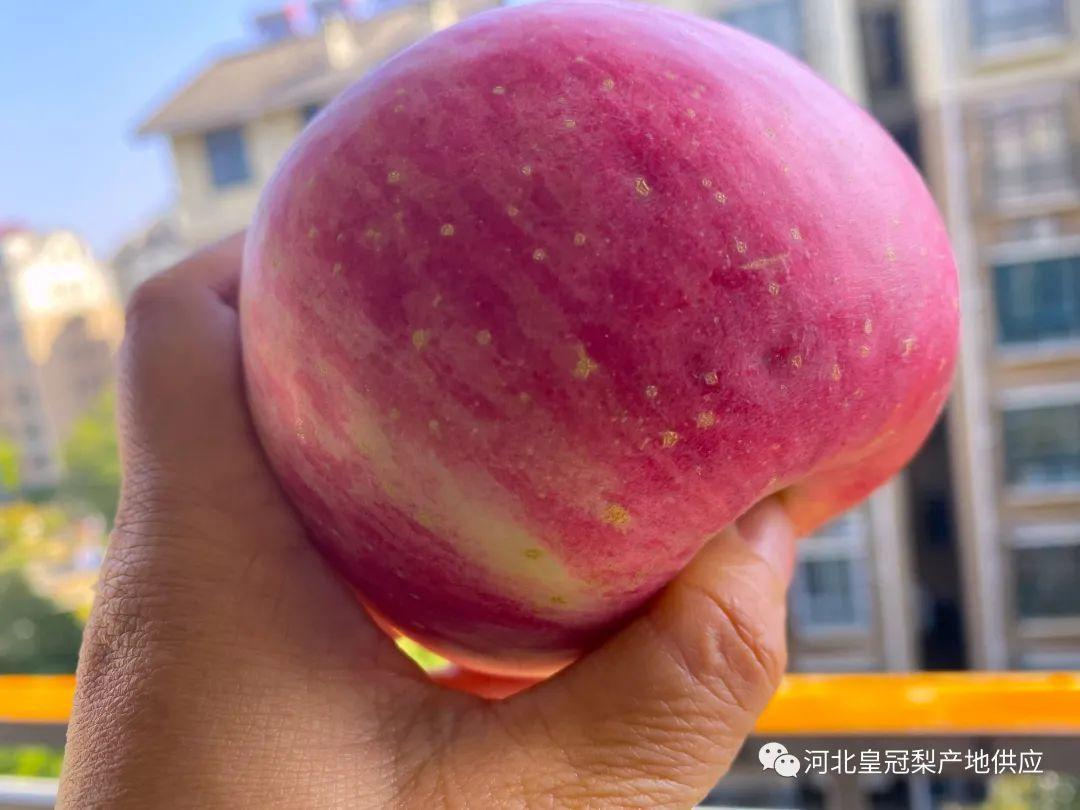apple: (238, 5, 965, 681)
